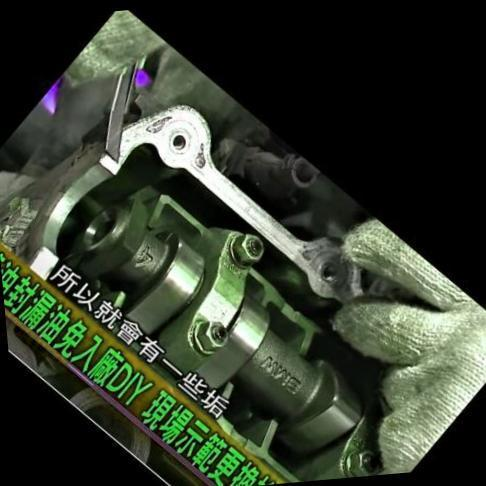hole: (317, 258, 344, 286), (168, 129, 193, 153)
